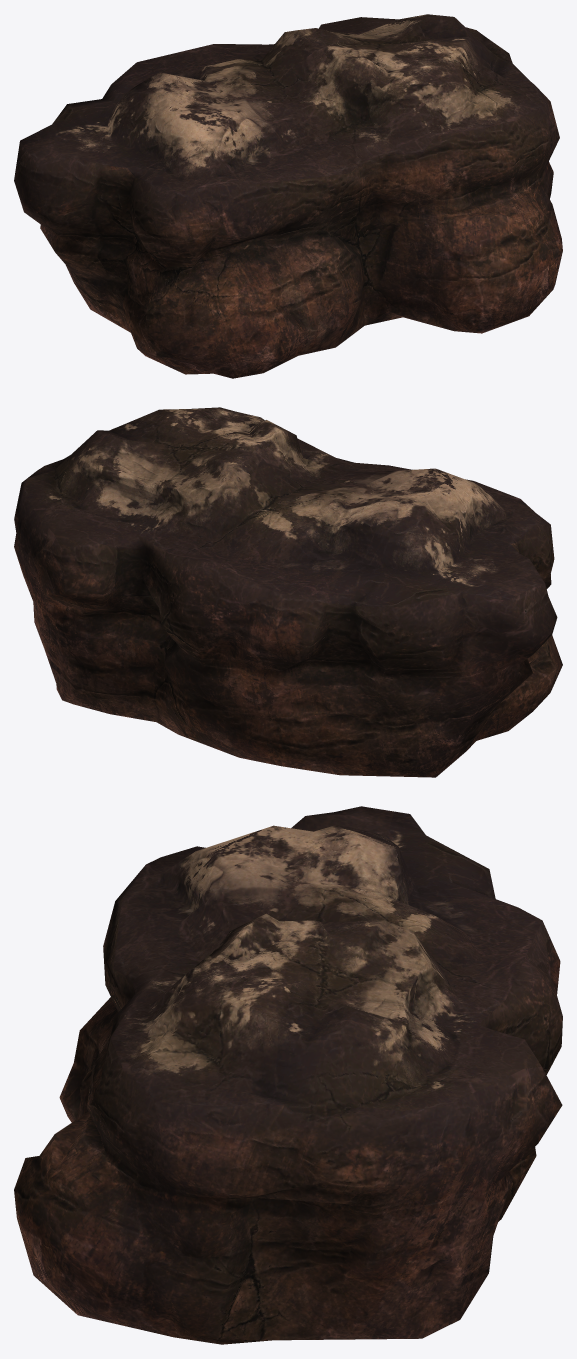
File: canyon_red_ridge01.dae
3 renders of one model, top to bottom at view 1: azimuth 30°, elevation 25°; view 2: azimuth 150°, elevation 25°; view 3: azimuth 270°, elevation 25°, orthographic. The views are drawn at different scales.
Parts seen in each view (by area): view 1: Mesh; view 2: Mesh; view 3: Mesh.
Part boxes in pixels (bbox=[...]): Mesh: bbox=[14, 14, 562, 378]; Mesh: bbox=[14, 407, 562, 777]; Mesh: bbox=[14, 806, 562, 1344].
Bounding box in the file's own units: 20.14 × 9.5 × 14.4.
